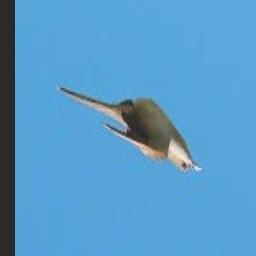Cuckoo: (58, 85, 203, 173)
